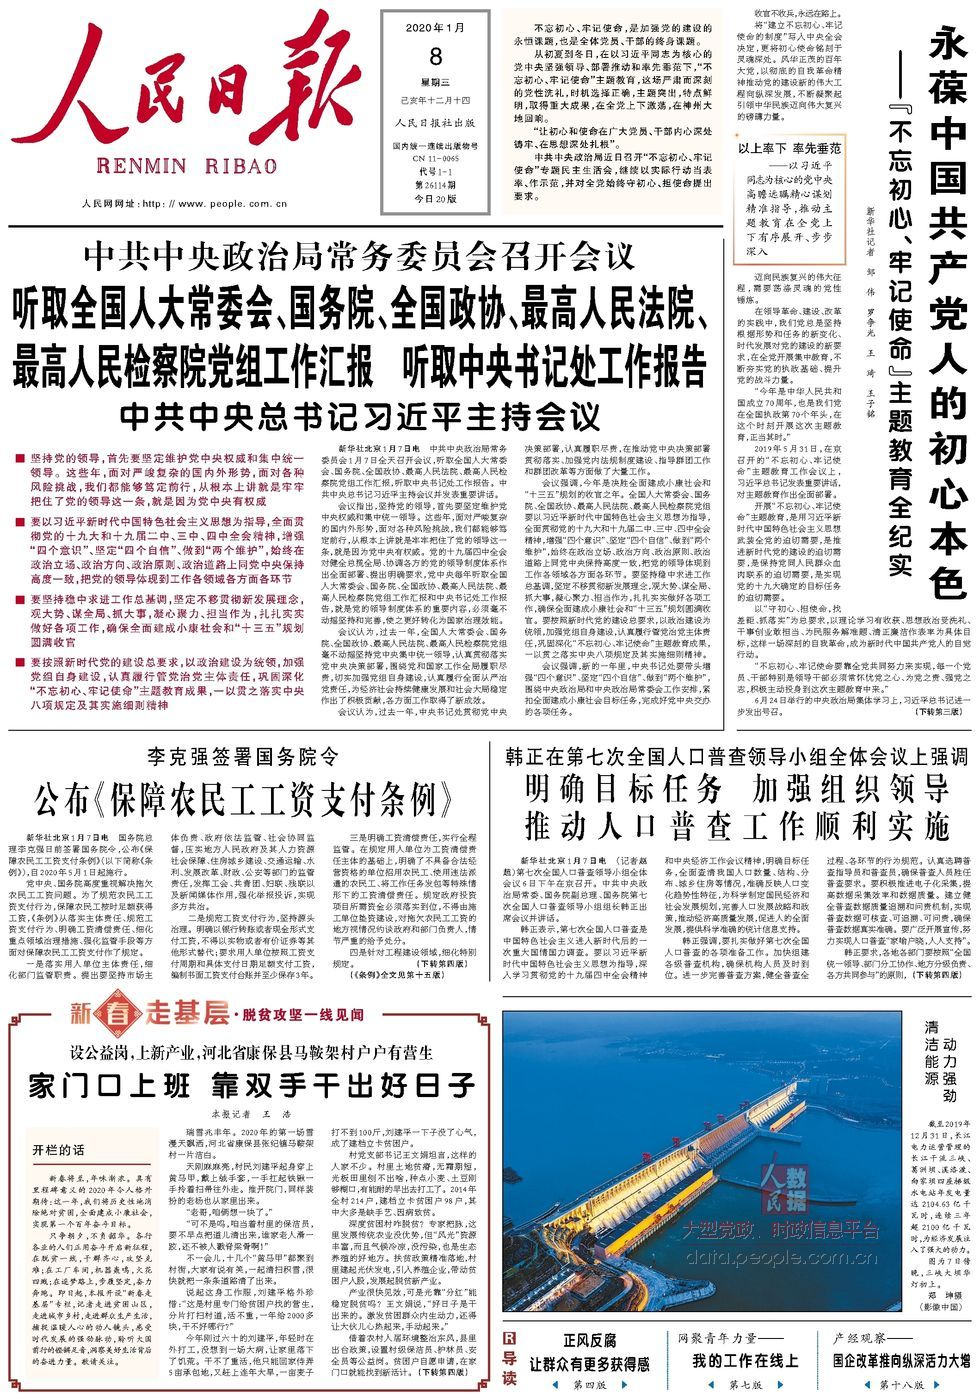pic: (499, 1006, 908, 1316)
